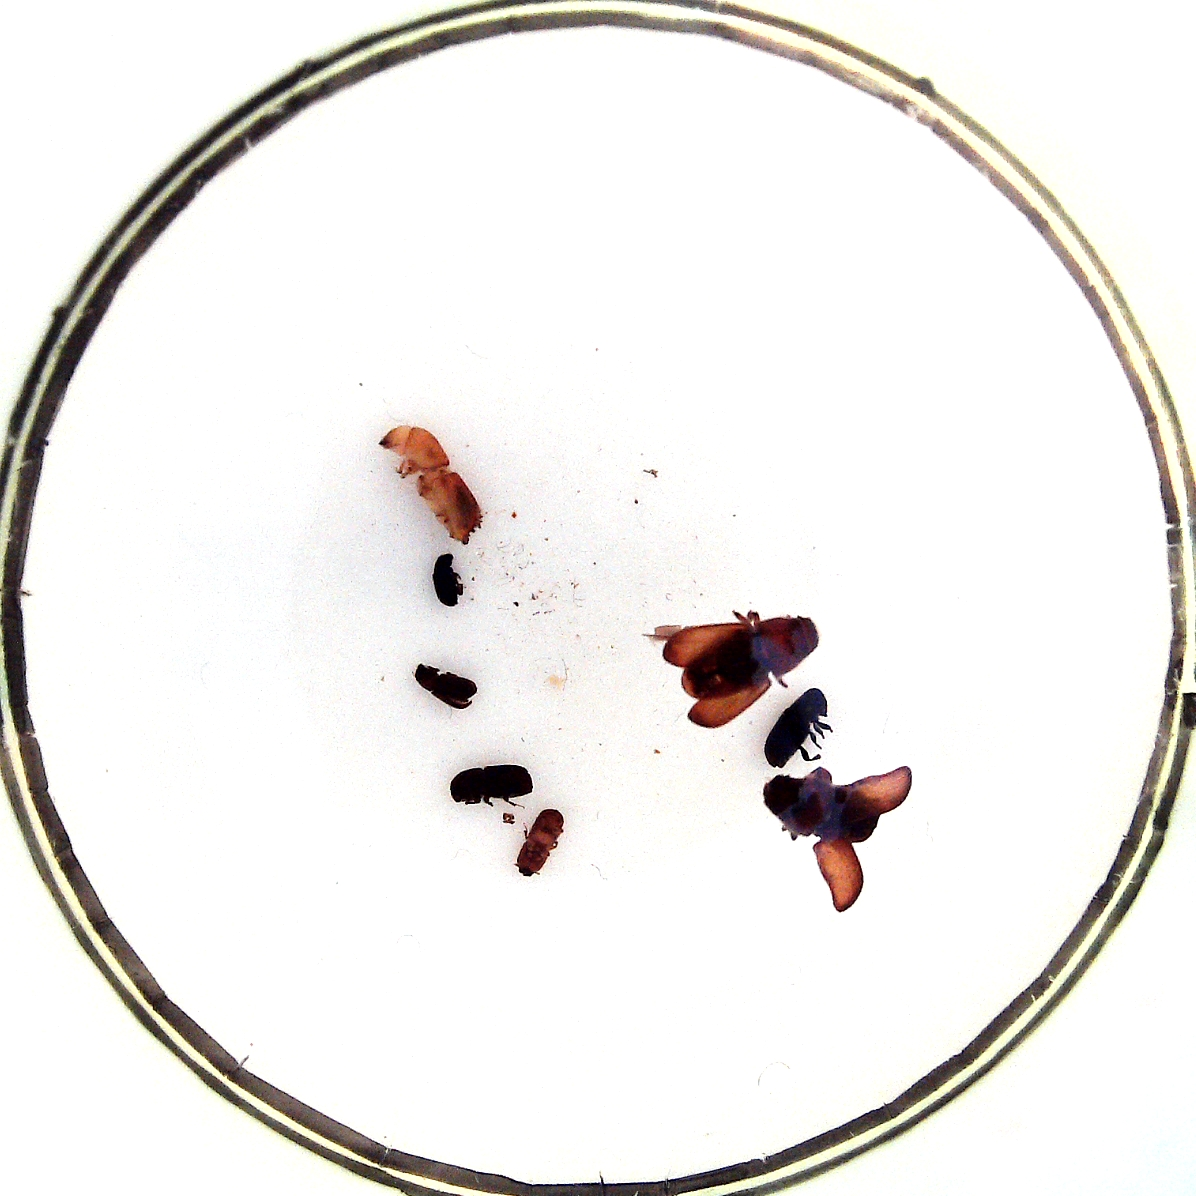Boerner: (378, 425, 484, 545)
Leconte: (682, 616, 819, 701), (764, 775, 879, 842)
acuminatus: (415, 663, 476, 709), (432, 553, 463, 606)
armandi: (764, 688, 827, 768)
coleoptera: (516, 809, 564, 876)
linnaeus: (451, 764, 533, 805)
